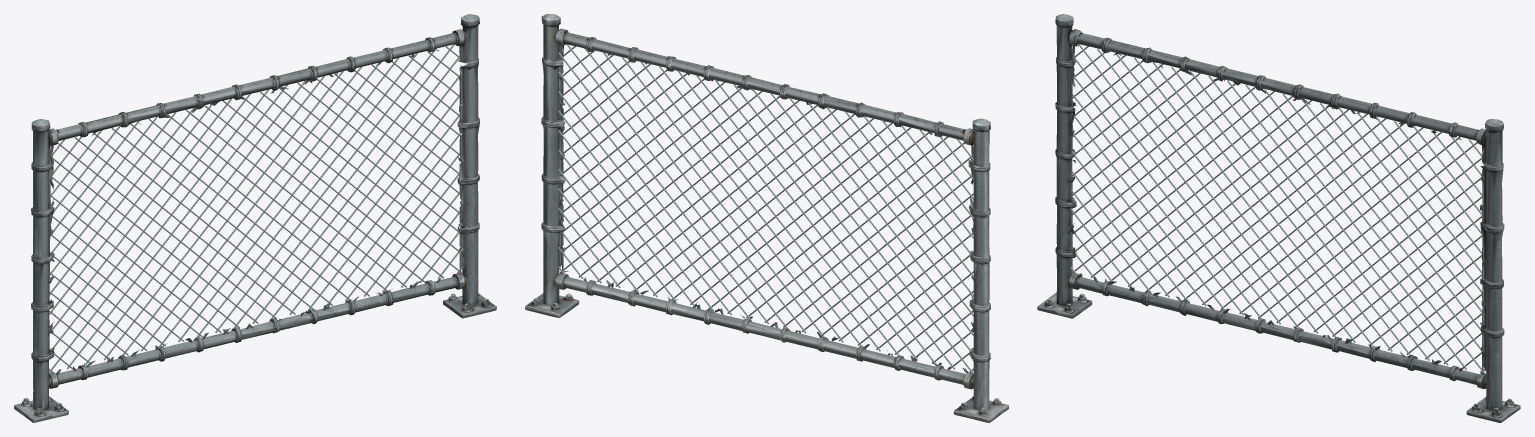
File: chainlink-fence.glb
The picture shows the model from 3 angles, left to right: view 1: azimuth 30°, elevation 25°; view 2: azimuth 150°, elevation 25°; view 3: azimuth 330°, elevation 25°; orthographic projection.
Visible parts, largest first — view 1: chainlink-fence; view 2: chainlink-fence; view 3: chainlink-fence.
Boxes of the visible parts, <box> form: chainlink-fence: <box>14,14,496,422</box>; chainlink-fence: <box>525,14,1008,422</box>; chainlink-fence: <box>1037,14,1520,422</box>.
Size of the model in its own units: 4 by 2.4 by 0.3.
2 materials, 1 textured.
